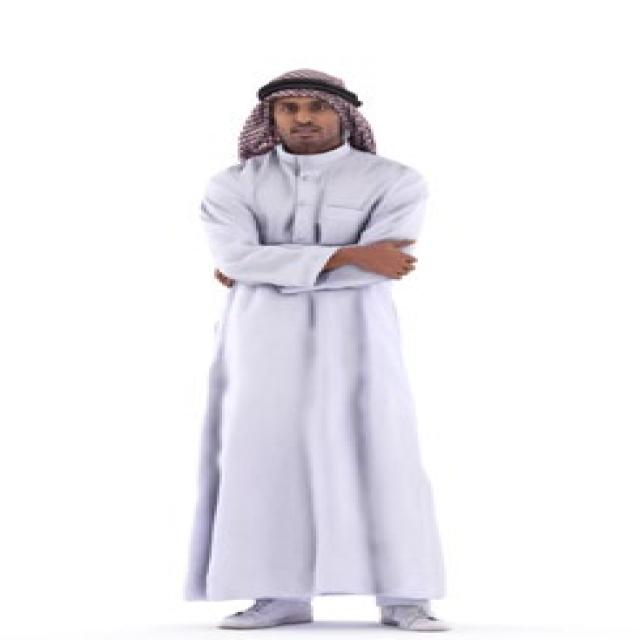standing: (182, 68, 456, 632)
